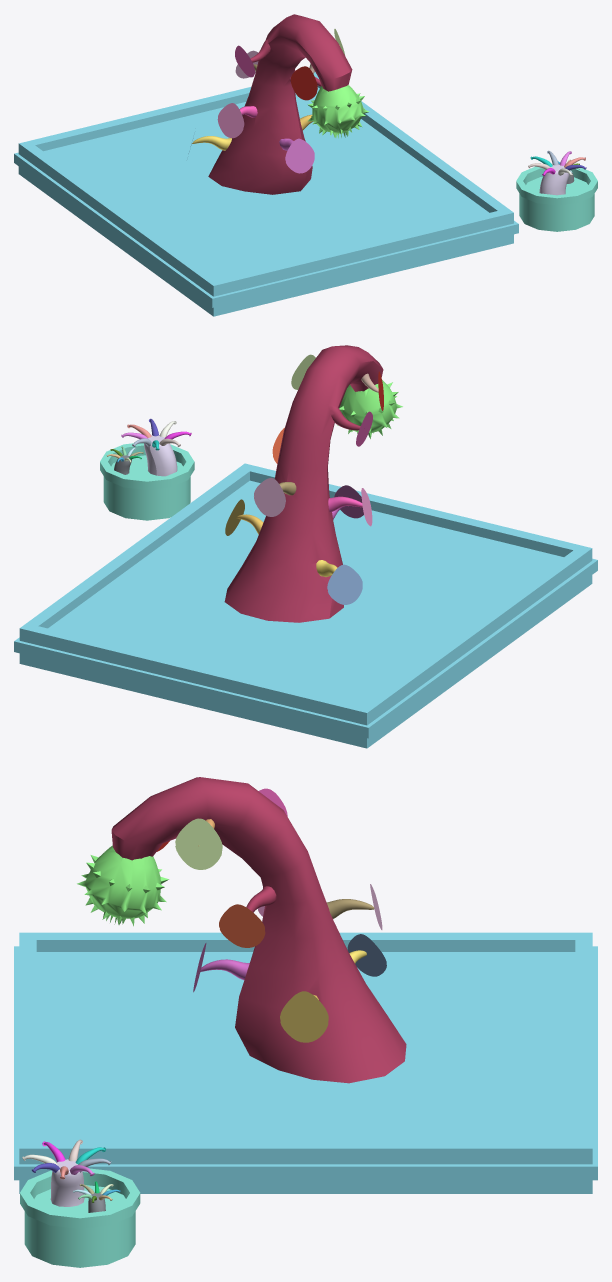
3 views of the same model, one above another, from view 1: azimuth 30°, elevation 25°; view 2: azimuth 150°, elevation 25°; view 3: azimuth 270°, elevation 25° (orthographic). The views are drawn at different scales.
Visible parts, largest first — view 1: Ground_GroundPBS_0, Bulb_Plant_Plant_Stingray_0, GroundPot_GroundPotPBS_0, Fruit_Plant_Stingray_0, split_parent_12, split_parent_10, split_parent_17, split_parent_18; view 2: Ground_GroundPBS_0, Bulb_Plant_Plant_Stingray_0, GroundPot_GroundPotPBS_0, Fruit_Plant_Stingray_0, split_parent_8, split_parent_18, split_parent_3; view 3: Ground_GroundPBS_0, Bulb_Plant_Plant_Stingray_0, GroundPot_GroundPotPBS_0, Fruit_Plant_Stingray_0, split_parent_6, split_parent_15, split_parent_4, split_parent_18, split_parent_8.
Boxes of the visible parts, left/top/right/bottom form: Ground_GroundPBS_0: left=14, top=72, right=518, bottom=316; Bulb_Plant_Plant_Stingray_0: left=208, top=14, right=352, bottom=194; GroundPot_GroundPotPBS_0: left=516, top=166, right=597, bottom=231; Fruit_Plant_Stingray_0: left=307, top=85, right=369, bottom=138; split_parent_12: left=285, top=138, right=314, bottom=173; split_parent_10: left=217, top=103, right=244, bottom=138; split_parent_17: left=290, top=66, right=317, bottom=100; split_parent_18: left=539, top=164, right=569, bottom=195; Ground_GroundPBS_0: left=14, top=463, right=597, bottom=748; Bulb_Plant_Plant_Stingray_0: left=224, top=345, right=383, bottom=622; GroundPot_GroundPotPBS_0: left=100, top=443, right=194, bottom=520; Fruit_Plant_Stingray_0: left=337, top=380, right=402, bottom=438; split_parent_8: left=327, top=564, right=362, bottom=604; split_parent_18: left=144, top=435, right=177, bottom=476; split_parent_3: left=254, top=478, right=285, bottom=516; Ground_GroundPBS_0: left=14, top=932, right=597, bottom=1193; Bulb_Plant_Plant_Stingray_0: left=111, top=777, right=406, bottom=1083; GroundPot_GroundPotPBS_0: left=20, top=1168, right=140, bottom=1267; Fruit_Plant_Stingray_0: left=77, top=845, right=168, bottom=926; split_parent_6: left=280, top=991, right=328, bottom=1042; split_parent_15: left=175, top=818, right=222, bottom=869; split_parent_4: left=219, top=904, right=265, bottom=947; split_parent_18: left=50, top=1159, right=84, bottom=1206; split_parent_8: left=347, top=934, right=386, bottom=976.
Bounding box in the file's own units: 1 × 0.5098 × 0.8529.
